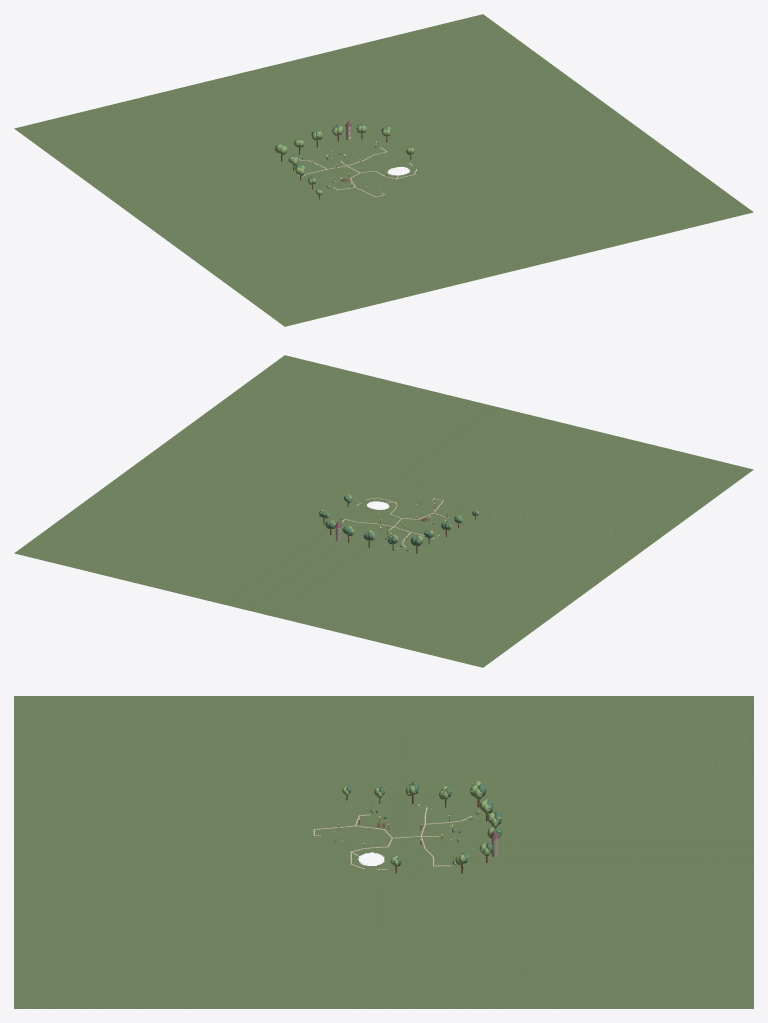
File: village-ground.glb
3 renders of one model, top to bottom at view 1: azimuth 30°, elevation 25°; view 2: azimuth 150°, elevation 25°; view 3: azimuth 270°, elevation 25°, orthographic. The views are drawn at different scales.
Visible parts, largest first — view 1: Forest hamlet; view 2: Forest hamlet; view 3: Forest hamlet.
Boxes of the visible parts, left/top/right/bottom form: Forest hamlet: left=14, top=14, right=753, bottom=326; Forest hamlet: left=14, top=355, right=753, bottom=667; Forest hamlet: left=14, top=696, right=753, bottom=1008.
Size of the model in its own units: 180 by 7.22 by 180.
17 materials, 17 textured.
